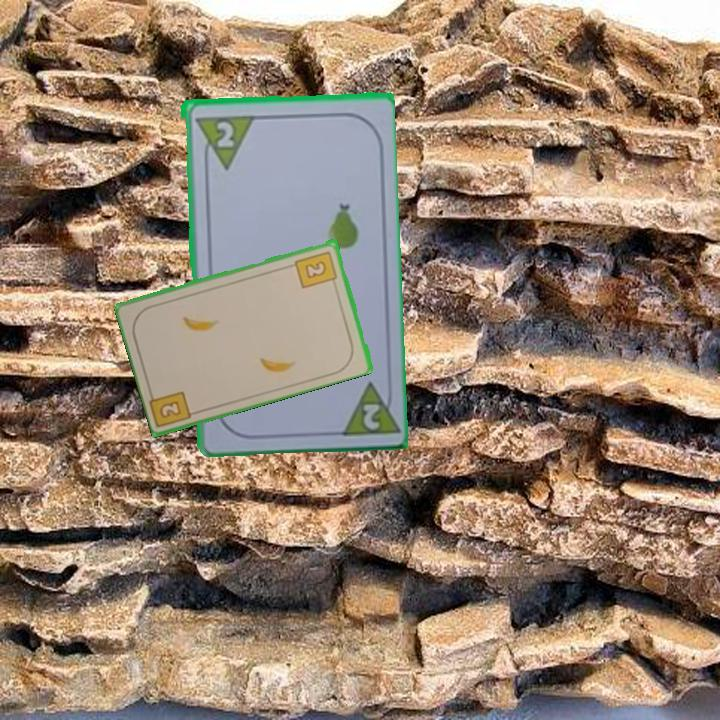2b: (292, 247, 340, 291), (156, 397, 184, 421)
2p: (334, 376, 399, 439), (190, 111, 254, 172)
